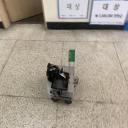cart: (46, 66, 74, 104)
